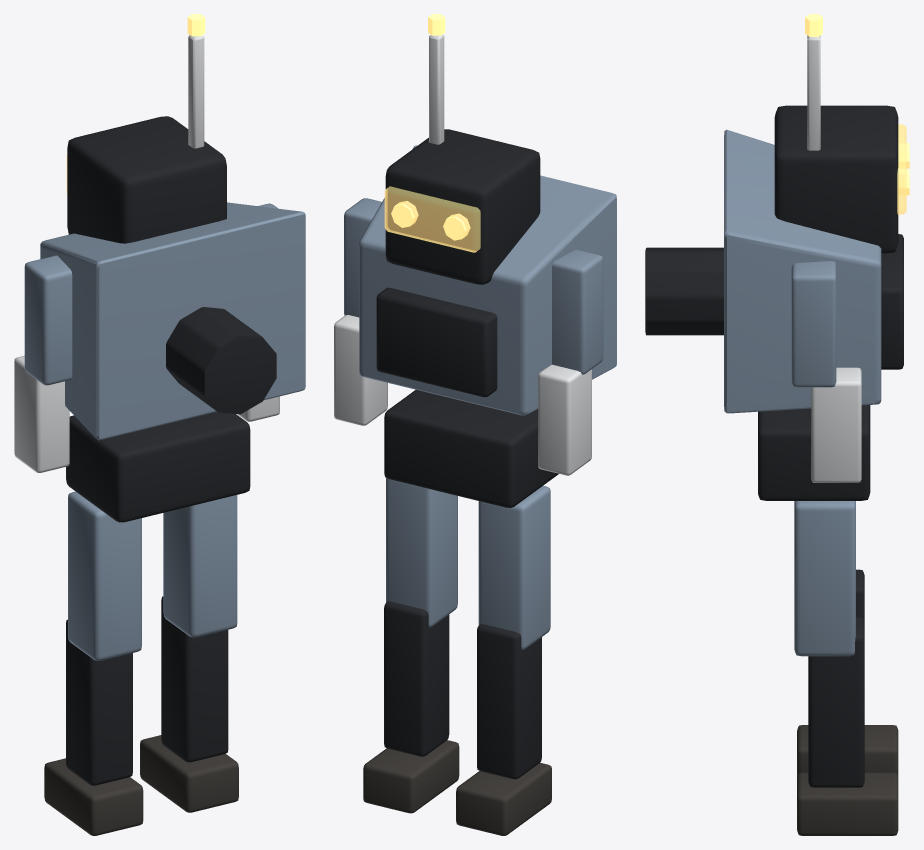
The model's file is bot.glb.
3 views of the same model, side by side, from view 1: azimuth 30°, elevation 25°; view 2: azimuth 150°, elevation 25°; view 3: azimuth 270°, elevation 25° (orthographic). The views are drawn at different scales.
Parts seen in each view (by area): view 1: Chassis, HeadShell, Pelvis, ThighL, ThighR, Pack, ShinR, ShinL, UpperArmL, ToolL, BootL, BootR (+2 smaller); view 2: Chassis, HeadShell, Pelvis, ChestPlate, ThighL, ShinR, ShinL, ThighR, UpperArmL, ToolL, BootR, BootL (+6 smaller); view 3: Chassis, HeadShell, ThighR, ShinR, Pack, Pelvis, UpperArmR, BootR, ToolR, ChestPlate, BootL, AntennaRod (+1 smaller).
Part boxes in pixels (left/top/right/bottom): Chassis: left=40, top=202, right=305, bottom=440; HeadShell: left=67, top=116, right=226, bottom=243; Pelvis: left=66, top=411, right=250, bottom=522; ThighL: left=68, top=491, right=141, bottom=660; ThighR: left=163, top=495, right=237, bottom=637; Pack: left=166, top=307, right=276, bottom=414; ShinR: left=161, top=596, right=228, bottom=762; ShinL: left=66, top=619, right=132, bottom=785; UpperArmL: left=24, top=255, right=72, bottom=385; ToolL: left=14, top=355, right=69, bottom=472; BootL: left=44, top=758, right=143, bottom=835; BootR: left=140, top=735, right=238, bottom=812; Chassis: left=359, top=145, right=616, bottom=415; HeadShell: left=385, top=129, right=540, bottom=284; Pelvis: left=384, top=390, right=558, bottom=507; ChestPlate: left=376, top=287, right=497, bottom=397; ThighL: left=478, top=485, right=550, bottom=650; ShinR: left=384, top=601, right=449, bottom=756; ShinL: left=477, top=624, right=541, bottom=779; ThighR: left=386, top=478, right=457, bottom=627; UpperArmL: left=552, top=249, right=603, bottom=374; ToolL: left=538, top=364, right=591, bottom=475; BootR: left=363, top=740, right=459, bottom=813; BootL: left=456, top=762, right=551, bottom=835; Chassis: left=724, top=129, right=881, bottom=413; HeadShell: left=774, top=105, right=898, bottom=253; ThighR: left=794, top=501, right=855, bottom=656; ShinR: left=808, top=617, right=864, bottom=787; Pack: left=645, top=247, right=723, bottom=335; Pelvis: left=758, top=405, right=870, bottom=500; UpperArmR: left=791, top=261, right=836, bottom=387; BootR: left=797, top=772, right=898, bottom=835; ToolR: left=811, top=367, right=861, bottom=482; ChestPlate: left=881, top=234, right=903, bottom=369; BootL: left=797, top=725, right=898, bottom=777; AntennaRod: left=807, top=35, right=820, bottom=150.
Size of the model in its own units: 0.26 by 0.788 by 0.235.
